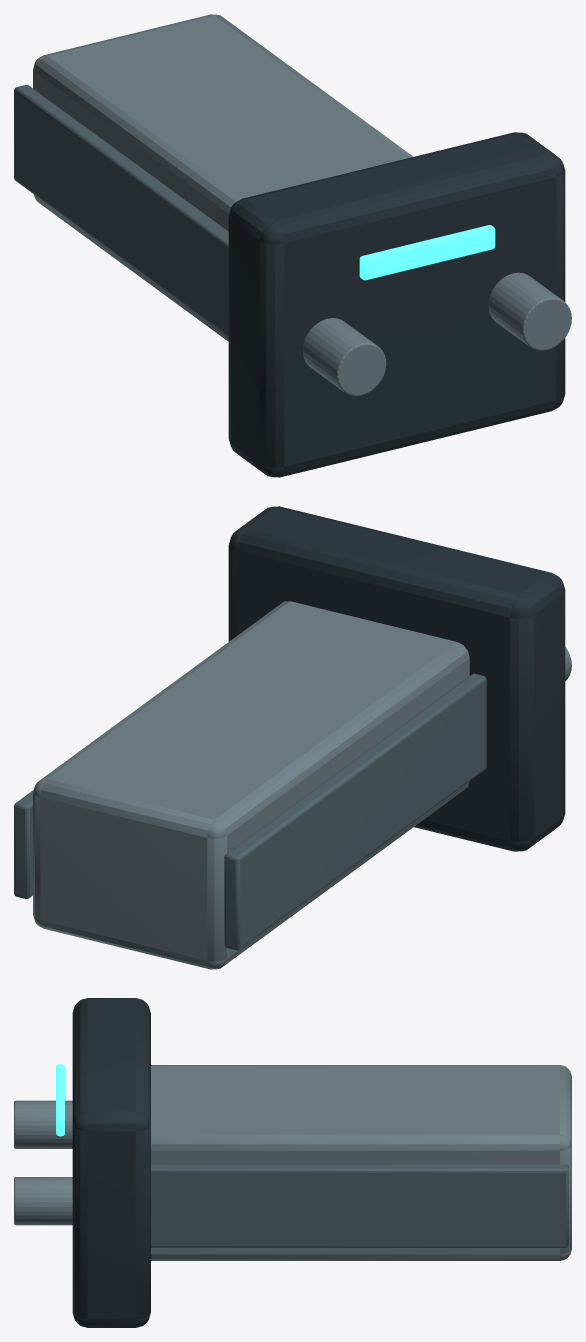
Rendered from SM_Mech_CouplerSlide.fbx.
The picture shows the model from 3 angles, top to bottom: view 1: azimuth 30°, elevation 25°; view 2: azimuth 150°, elevation 25°; view 3: azimuth 270°, elevation 25°; orthographic projection. The views are drawn at different scales.
Visible parts, largest first — view 1: SM_Mech_CouplerSlide; view 2: SM_Mech_CouplerSlide; view 3: SM_Mech_CouplerSlide.
Boxes of the visible parts, left/top/right/bottom form: SM_Mech_CouplerSlide: left=14, top=14, right=571, bottom=477; SM_Mech_CouplerSlide: left=14, top=506, right=571, bottom=969; SM_Mech_CouplerSlide: left=14, top=998, right=571, bottom=1327.
Bounding box in the file's own units: 98 × 186 × 79.
